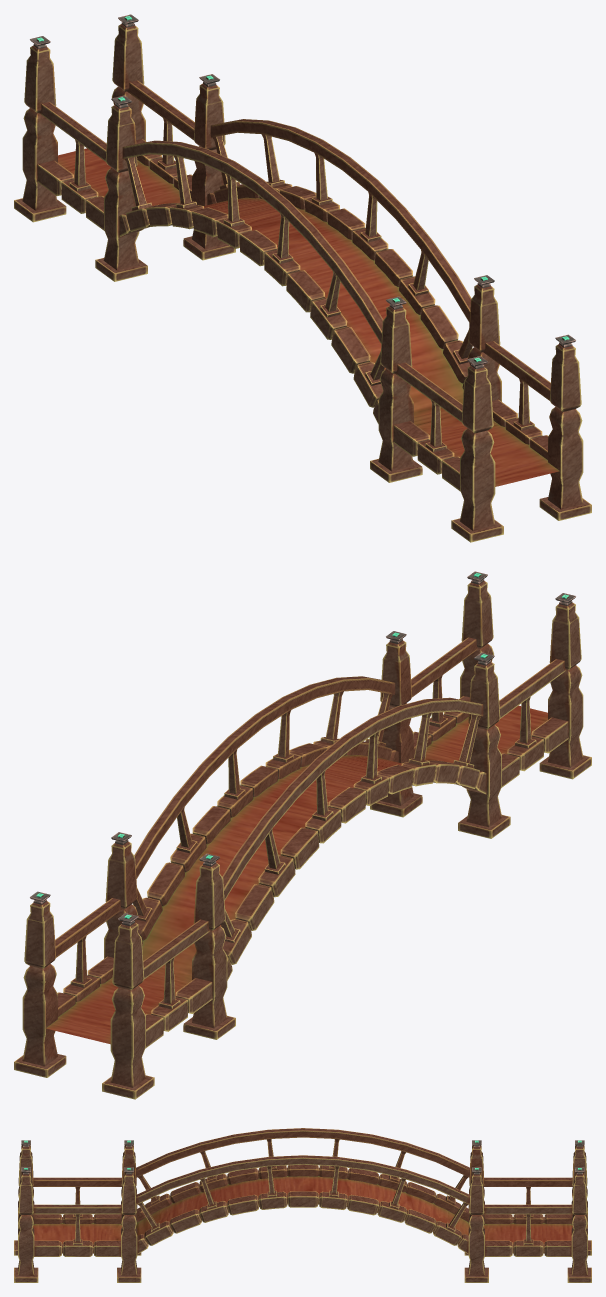
Rendered from bridge.glb.
The picture shows the model from 3 angles, top to bottom: view 1: azimuth 30°, elevation 25°; view 2: azimuth 150°, elevation 25°; view 3: azimuth 270°, elevation 25°; orthographic projection. The views are drawn at different scales.
Parts seen in each view (by area): view 1: bridge2_low, bridge5_low, bridge3_low, bridge1_low, bridge4_low, bridge6_low; view 2: bridge2_low, bridge5_low, bridge3_low, bridge1_low, bridge4_low, bridge6_low; view 3: bridge5_low, bridge3_low, bridge2_low, bridge1_low, bridge4_low, bridge6_low.
Boxes of the visible parts, left/top/right/bottom form: bridge2_low: left=14, top=24, right=591, bottom=542; bridge5_low: left=37, top=139, right=548, bottom=491; bridge3_low: left=39, top=80, right=550, bottom=422; bridge1_low: left=58, top=148, right=559, bottom=486; bridge4_low: left=69, top=118, right=534, bottom=452; bridge6_low: left=30, top=14, right=575, bottom=369; bridge2_low: left=14, top=581, right=591, bottom=1099; bridge5_low: left=57, top=696, right=568, bottom=1048; bridge3_low: left=55, top=637, right=566, bottom=979; bridge1_low: left=46, top=705, right=547, bottom=1044; bridge4_low: left=70, top=675, right=536, bottom=1009; bridge6_low: left=30, top=571, right=575, bottom=926; bridge5_low: left=34, top=1164, right=571, bottom=1256; bridge3_low: left=33, top=1128, right=572, bottom=1214; bridge2_low: left=14, top=1145, right=591, bottom=1282; bridge1_low: left=19, top=1176, right=587, bottom=1243; bridge4_low: left=73, top=1139, right=533, bottom=1245; bridge6_low: left=21, top=1140, right=584, bottom=1174.
Bounding box in the file's own units: 6.89 × 10.38 × 44.89.
1 material, 1 textured.
